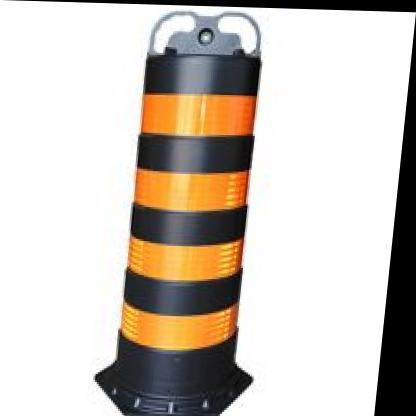obstacle: (106, 27, 280, 397)
